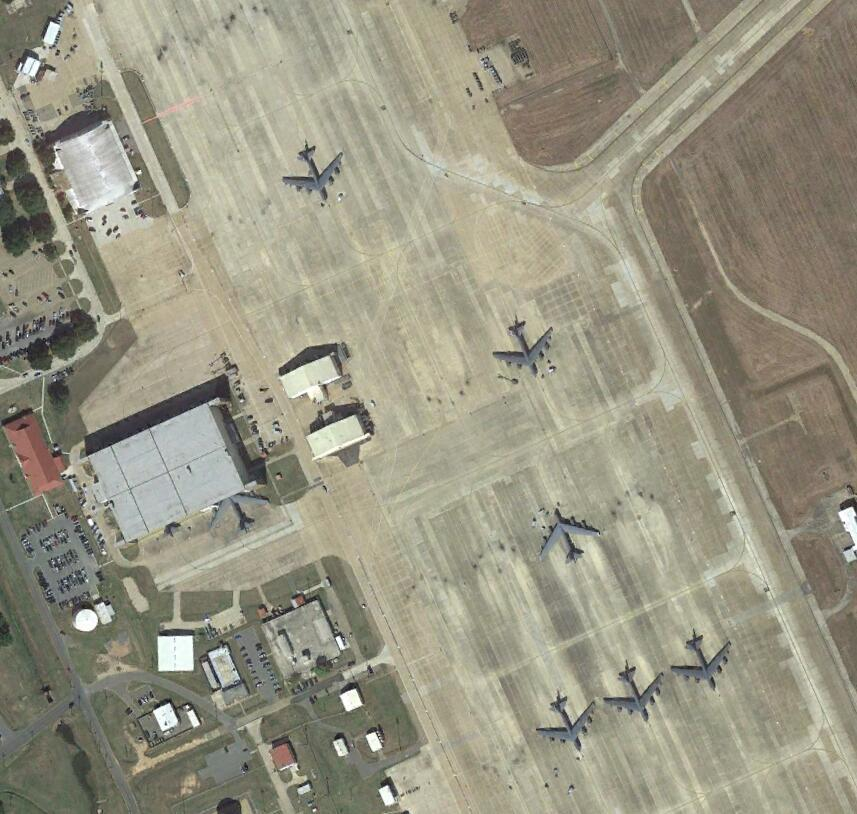A8: (668, 628, 733, 694), (535, 508, 606, 568), (491, 317, 558, 379), (532, 692, 599, 754), (280, 145, 347, 205), (602, 661, 665, 721)
